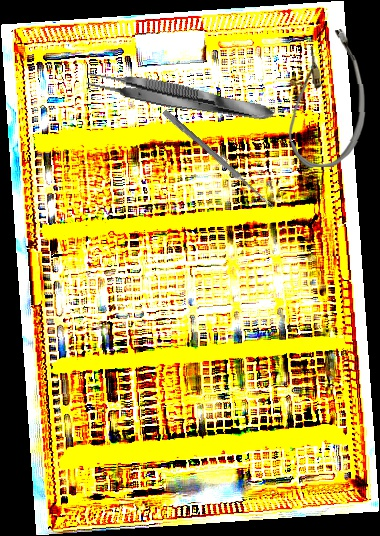Cannula: (284, 28, 368, 169)
Surgical Spoon: (161, 109, 276, 210)
Tissue Forceps: (84, 66, 276, 128)
